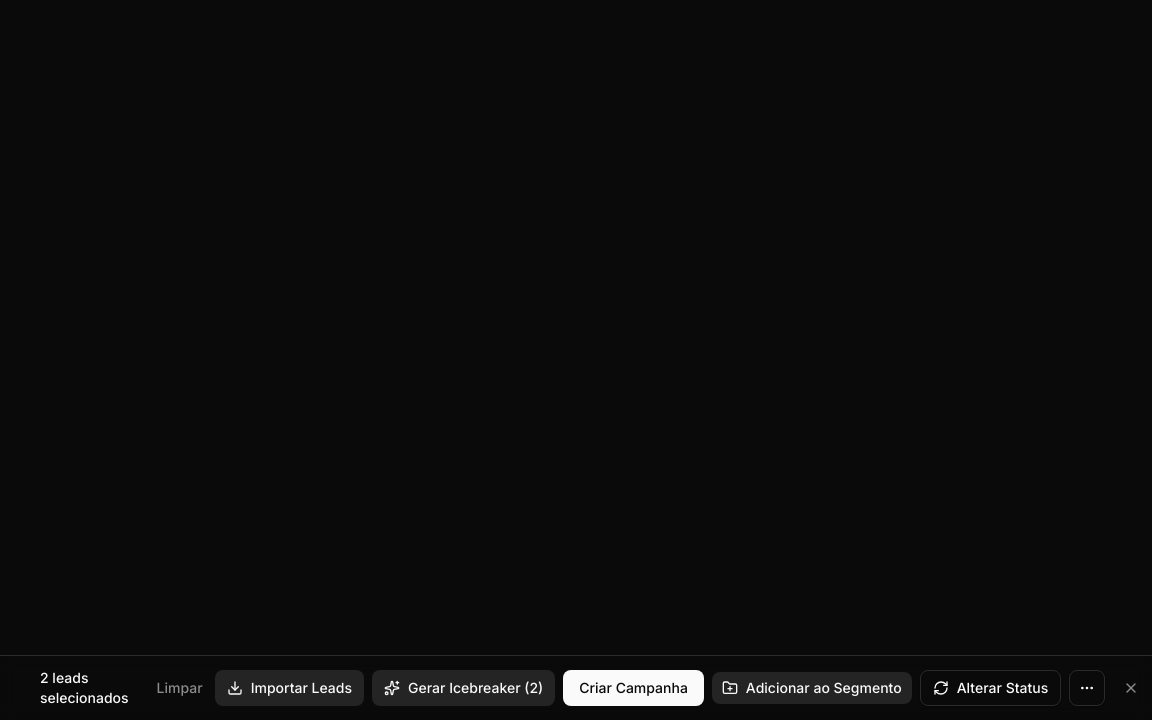
Test: LeadSelectionBar › Icebreaker Generation (Story 6.5.6) › AC#2: can cancel confirmation dialog
This screenshot has width=1152, height=720.
What coordinates should you click on to do the following:
click the button with test id "generate-icebreaker-button"
I would click on:
 (464, 688)
Its box is 372,670 -> 555,706.
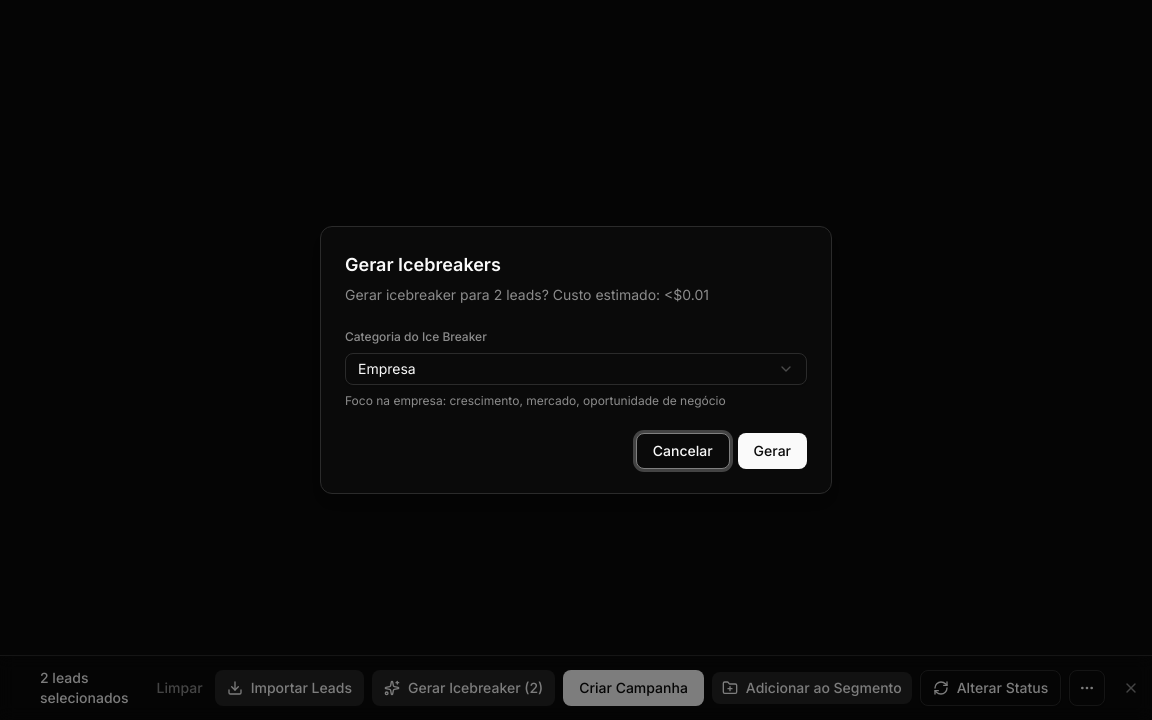
Expected: the button "Cancelar" is shown
What coordinates should you click on to do the following:
click the button "Cancelar"
I would click on:
 (683, 451)
Its box is 636,433 -> 730,469.
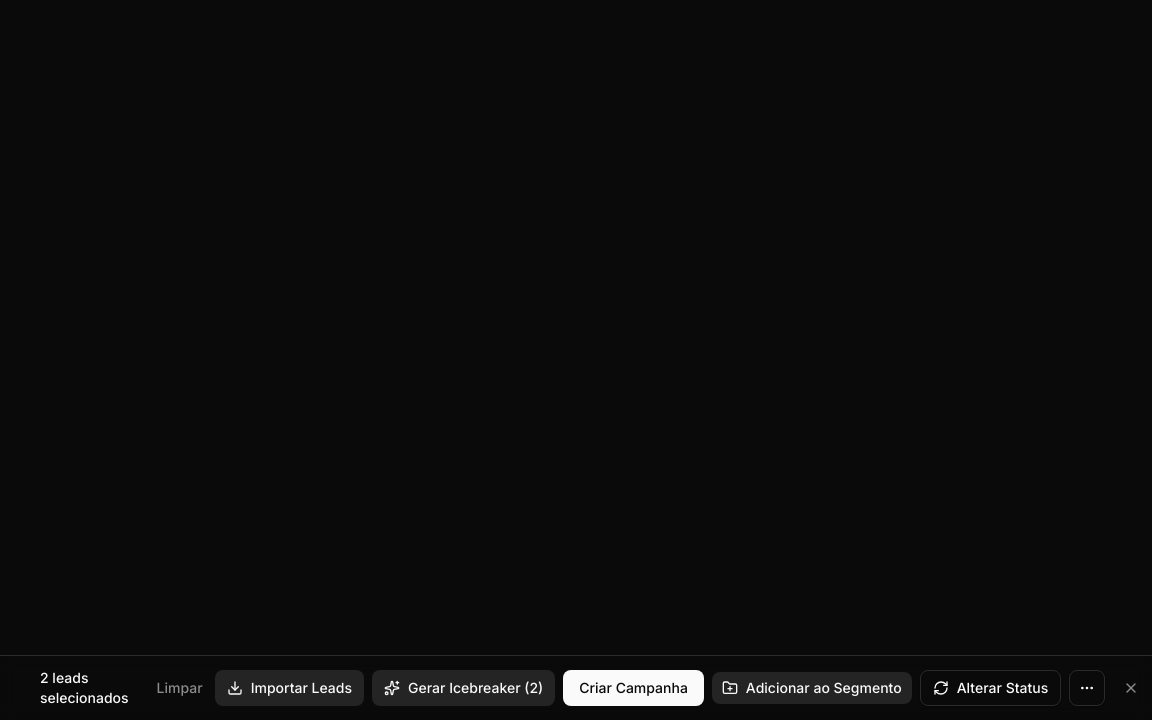
Expected: the heading "Gerar Icebreakers" is gone
